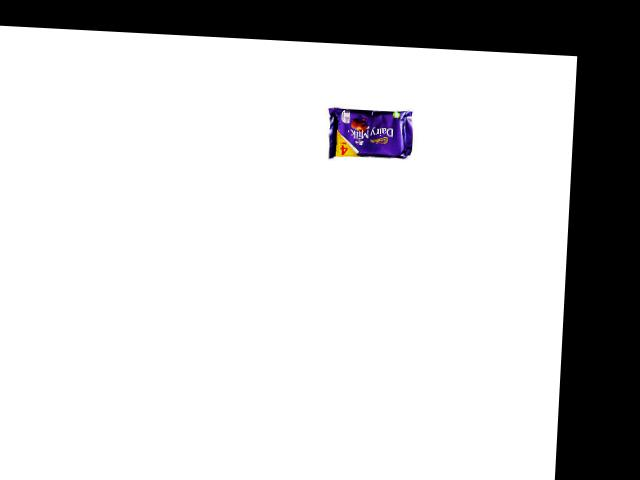chocolate: (316, 99, 417, 162)
